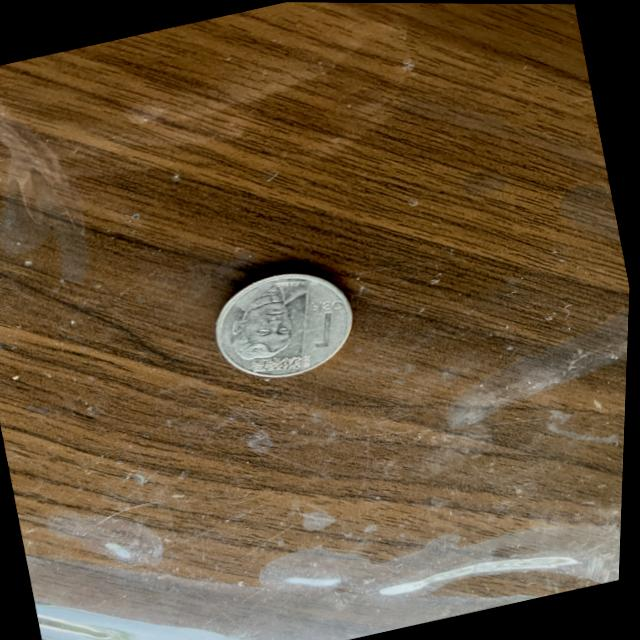1_New_Front: (230, 270, 355, 370)
